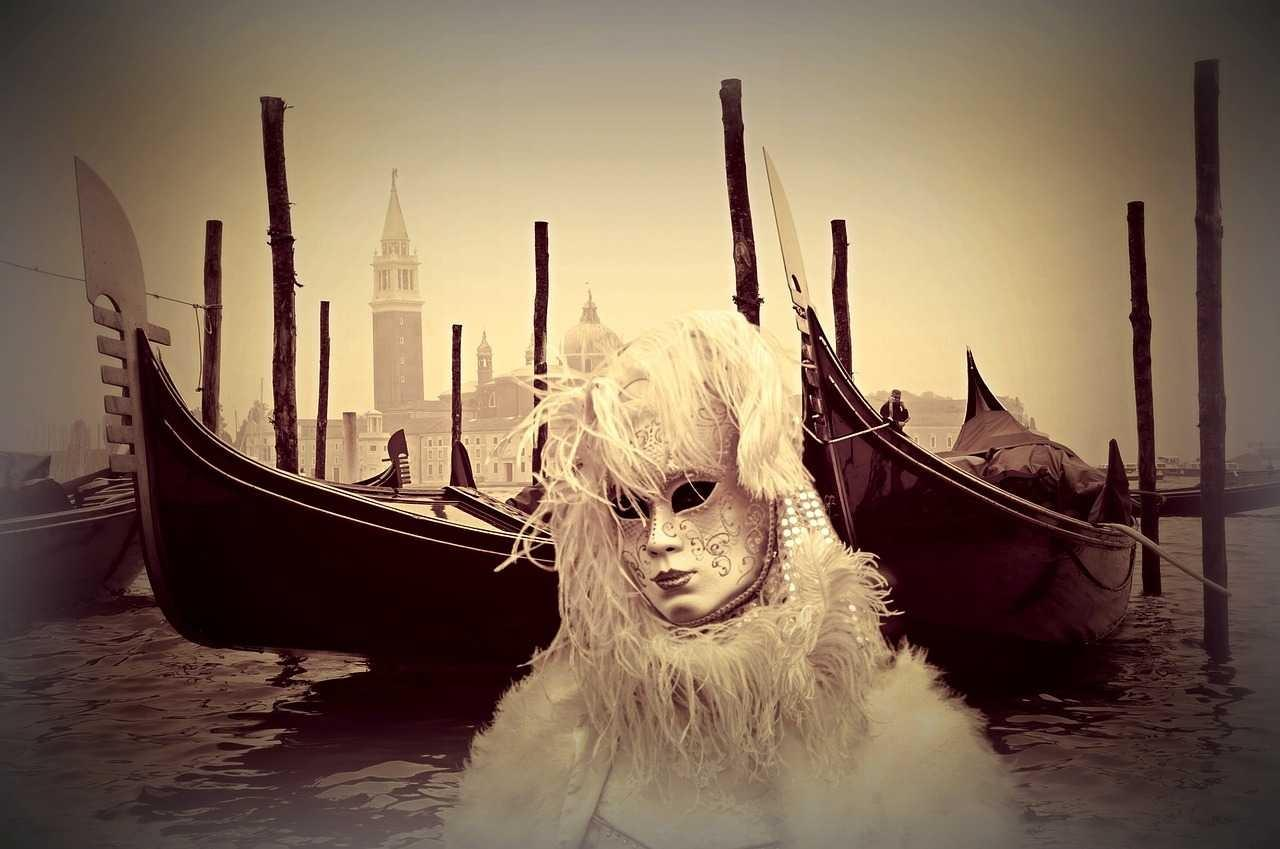kayak: (115, 327, 561, 662), (796, 297, 1138, 655), (1, 454, 143, 637), (1146, 475, 1280, 516)
